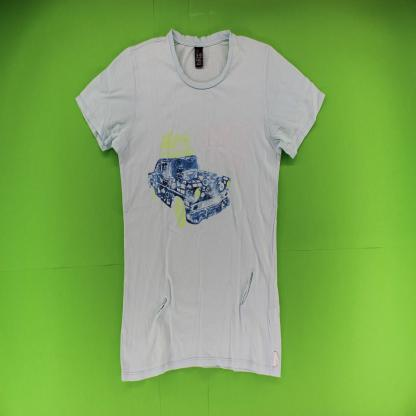hole: (239, 265, 254, 308), (157, 296, 168, 317)
